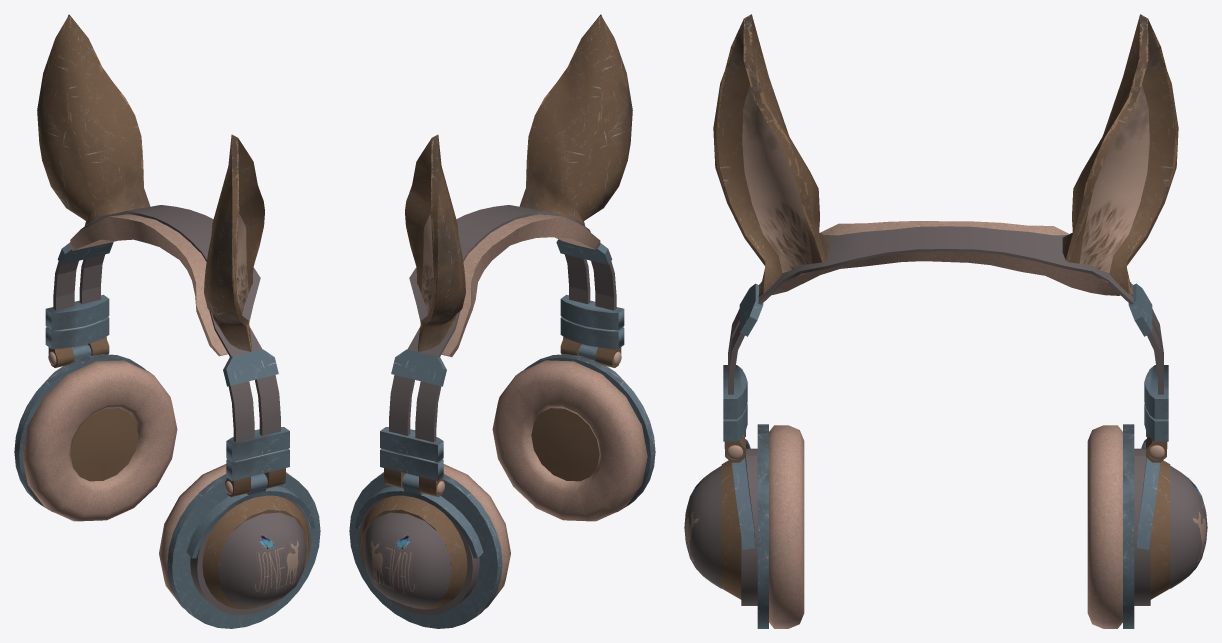
File: headphone_withdeerear.fbx
3 renders of one model, left to right at view 1: azimuth 30°, elevation 25°; view 2: azimuth 150°, elevation 25°; view 3: azimuth 270°, elevation 25°, orthographic. The views are drawn at different scales.
Visible parts, largest first — view 1: headphone_withdeerear; view 2: headphone_withdeerear; view 3: headphone_withdeerear.
Part boxes in pixels (x1,y1,x2,y2): headphone_withdeerear: (14,14,320,628); headphone_withdeerear: (349,14,655,628); headphone_withdeerear: (684,14,1207,628).
Bounding box in the file's own units: 9.61 × 30.79 × 24.52.
Materials: 1 (1 with a texture image).
